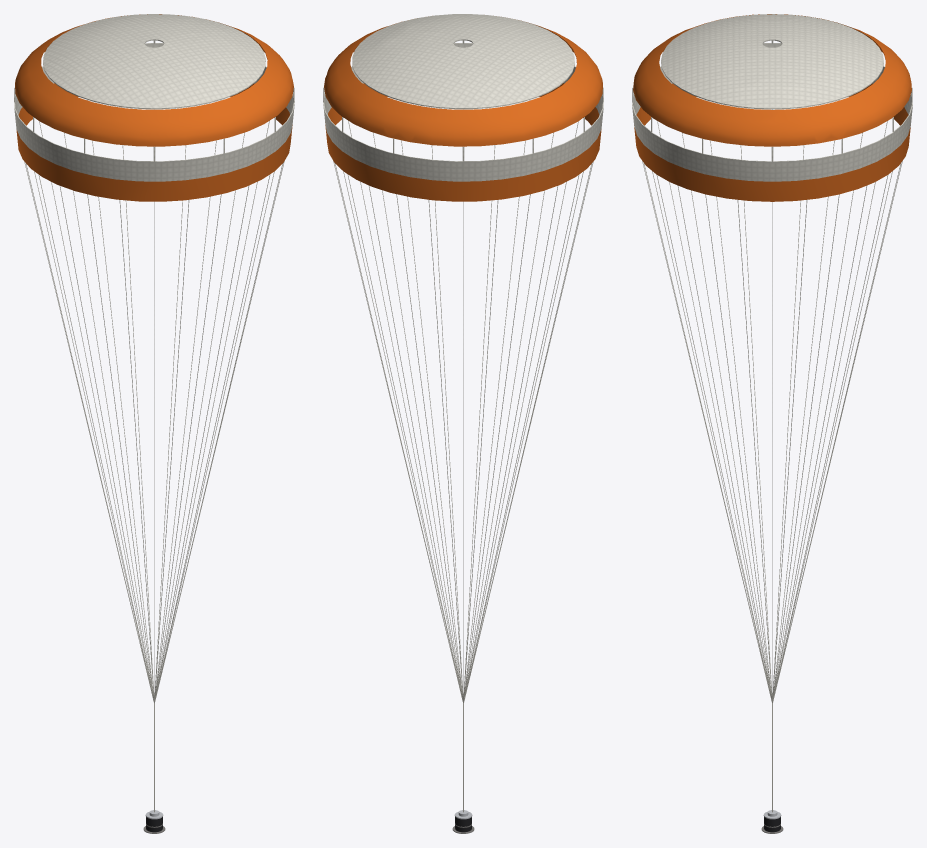
The model's file is stage09_dgb_chute_deployed.glb.
3 renders of one model, left to right at view 1: azimuth 30°, elevation 25°; view 2: azimuth 150°, elevation 25°; view 3: azimuth 270°, elevation 25°, orthographic.
Visible parts, largest first — view 1: canopy_ring_0, lines_riser, canopy_ring_1, band_upper, band_lower; view 2: canopy_ring_0, lines_riser, canopy_ring_1, band_upper, band_lower; view 3: canopy_ring_0, lines_riser, canopy_ring_1, band_upper, band_lower.
Boxes of the visible parts, box(x1,y1,x2,y2) form: canopy_ring_0: box(43, 14, 265, 109); lines_riser: box(24, 100, 284, 812); canopy_ring_1: box(15, 14, 293, 146); band_upper: box(14, 43, 294, 181); band_lower: box(16, 83, 292, 201); canopy_ring_0: box(352, 14, 574, 109); lines_riser: box(333, 100, 593, 812); canopy_ring_1: box(324, 20, 602, 146); band_upper: box(323, 43, 603, 181); band_lower: box(325, 83, 601, 201); canopy_ring_0: box(661, 14, 883, 109); lines_riser: box(642, 100, 902, 812); canopy_ring_1: box(633, 14, 911, 146); band_upper: box(632, 43, 912, 181); band_lower: box(634, 83, 910, 201).
Bounding box in the file's own units: 11.75 × 36.29 × 11.76.
Materials: 5 (3 with a texture image).
